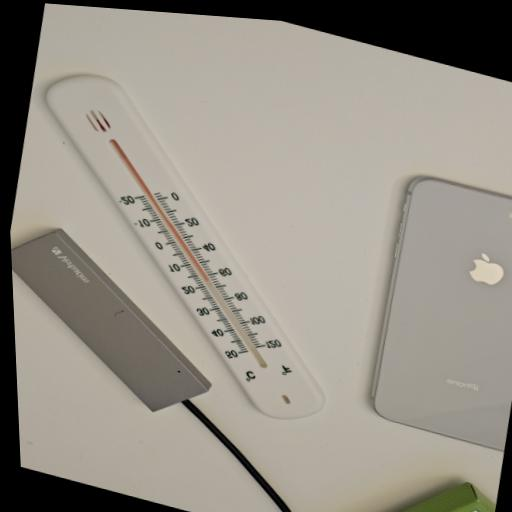thermometer: (3, 57, 380, 437)
